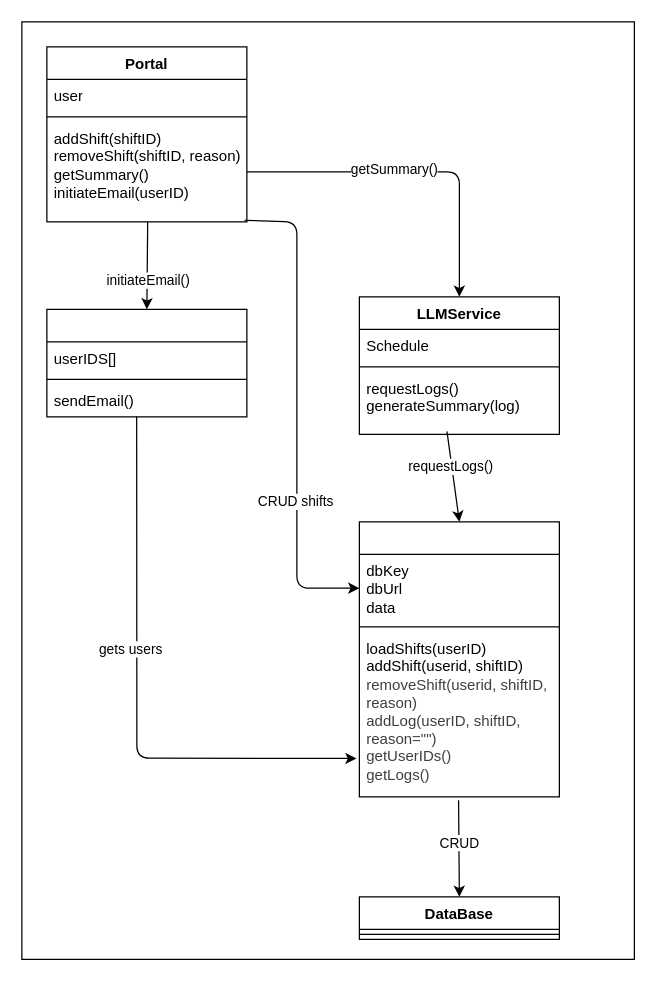
This 656x981 diagram has some shape labels left out. The box of each missing label's shape, as (x1, y1, x2, y2) in pixels:
DBService: (358, 521, 559, 797)
EmailSystem: (46, 308, 247, 417)
